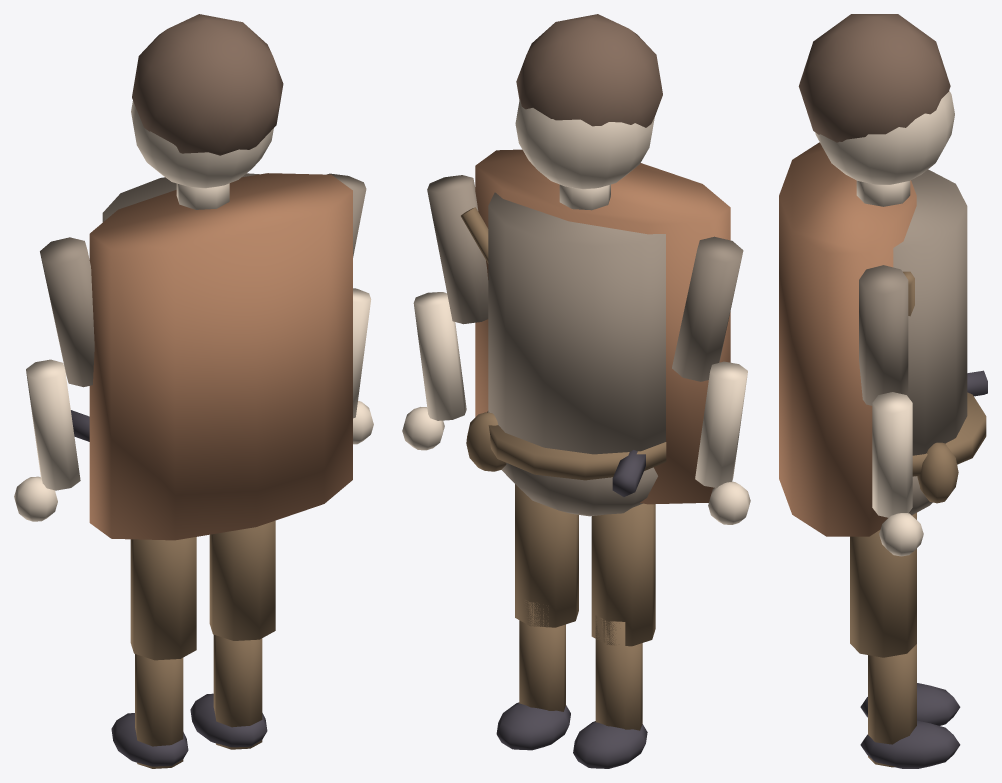
The model's file is rowan.glb.
3 views of the same model, side by side, from view 1: azimuth 30°, elevation 25°; view 2: azimuth 150°, elevation 25°; view 3: azimuth 270°, elevation 25° (orthographic). The views are drawn at different scales.
Parts seen in each view (by area): view 1: Rowan; view 2: Rowan; view 3: Rowan.
Part boxes in pixels (x1=…): Rowan: x1=14, y1=14, x2=373, y2=768; Rowan: x1=402, y1=14, x2=750, y2=768; Rowan: x1=779, y1=14, x2=987, y2=768.
Size of the model in its own units: 0.9 by 1.8 by 0.4675.
